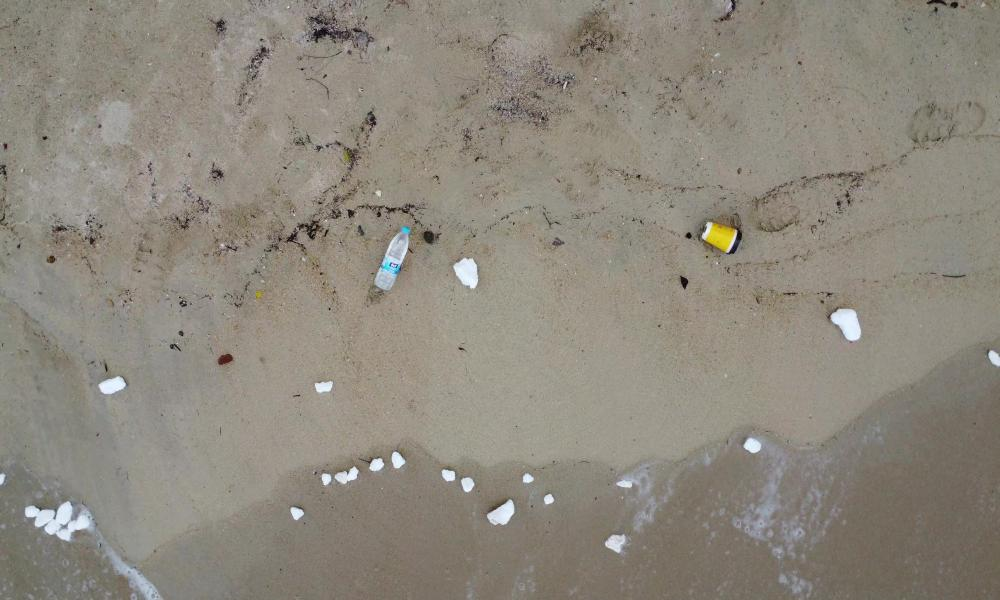carton: (698, 217, 745, 260)
plastic bottle: (378, 223, 413, 292)
styrofoam: (314, 453, 413, 490), (22, 506, 102, 550), (443, 259, 486, 294), (523, 470, 567, 503), (825, 308, 868, 340), (93, 372, 134, 400), (610, 480, 657, 500), (485, 503, 522, 528), (438, 470, 478, 491), (598, 531, 631, 552), (279, 502, 312, 520), (741, 438, 763, 457), (313, 384, 340, 396)
